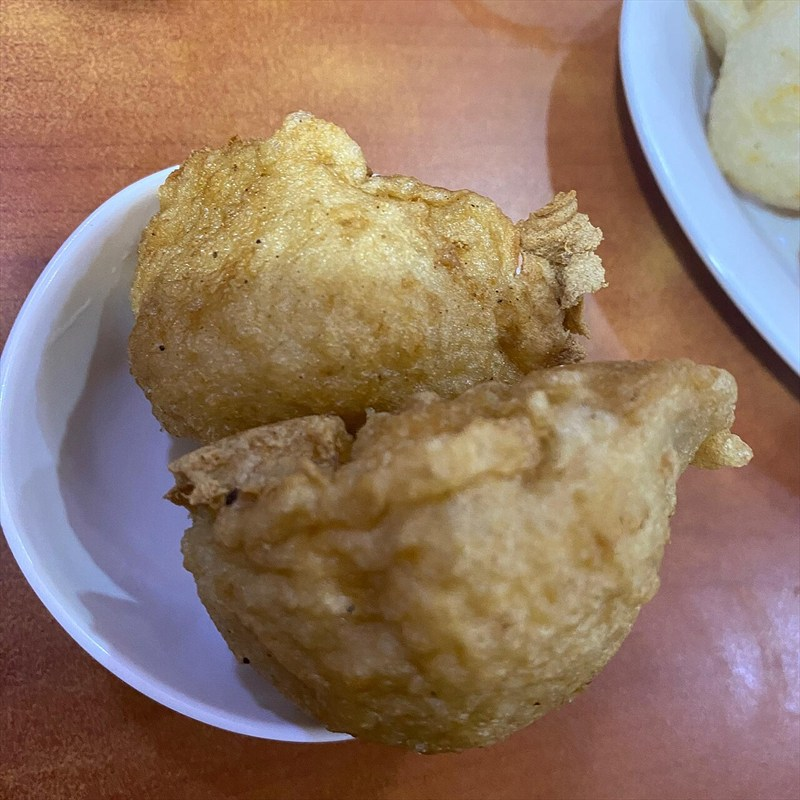Pempek: (24, 72, 776, 761)
